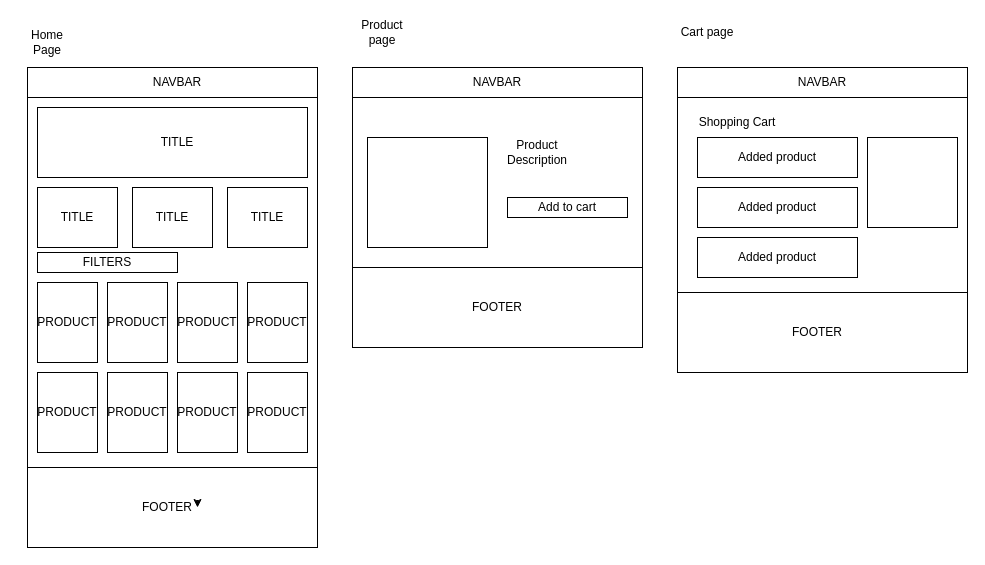
Some shapes in this 985 by 565 pixel diagram are drawn without their labels. Each missing label, with the box of its shape:
Product IMG: (366, 136, 488, 248)
Summary + place order: (866, 136, 958, 228)
